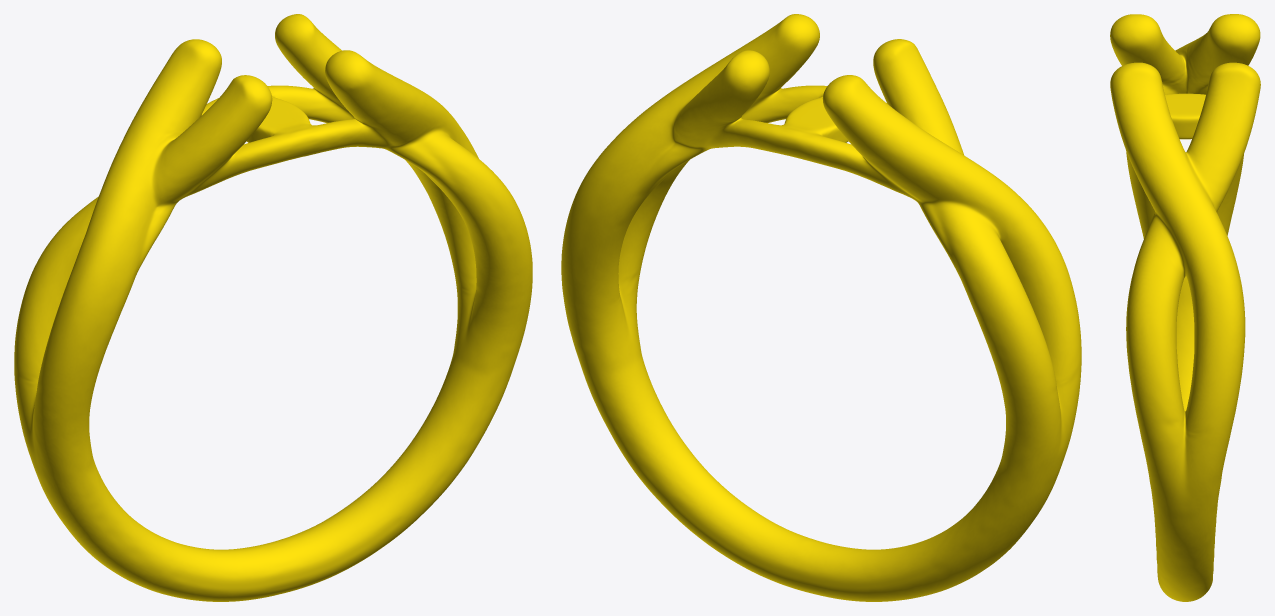
The model's file is Shank_Twist_Plain Gold_B_No, Hidden Halo_Band.glb.
3 views of the same model, side by side, from view 1: azimuth 30°, elevation 25°; view 2: azimuth 150°, elevation 25°; view 3: azimuth 270°, elevation 25° (orthographic).
Size of the model in its own units: 0.0217 by 0.023 by 0.00589.
